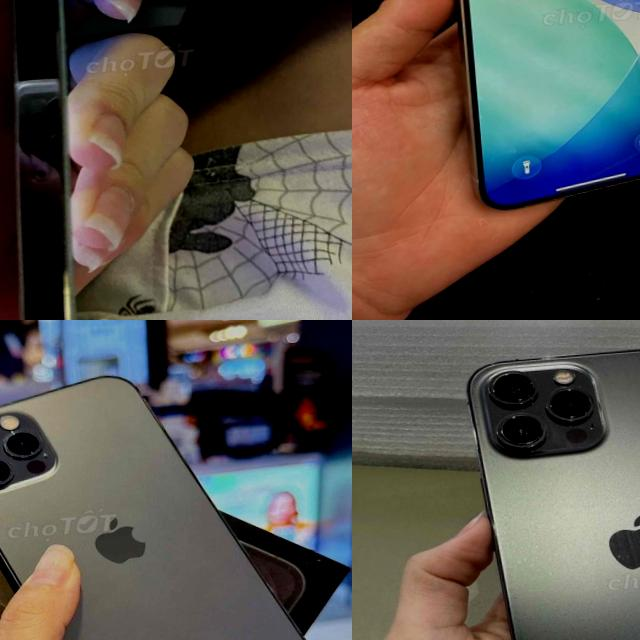gen_12_13: (461, 323, 640, 640), (0, 0, 170, 320)
gen_14: (0, 357, 330, 640)
gen_15: (422, 0, 640, 204)
